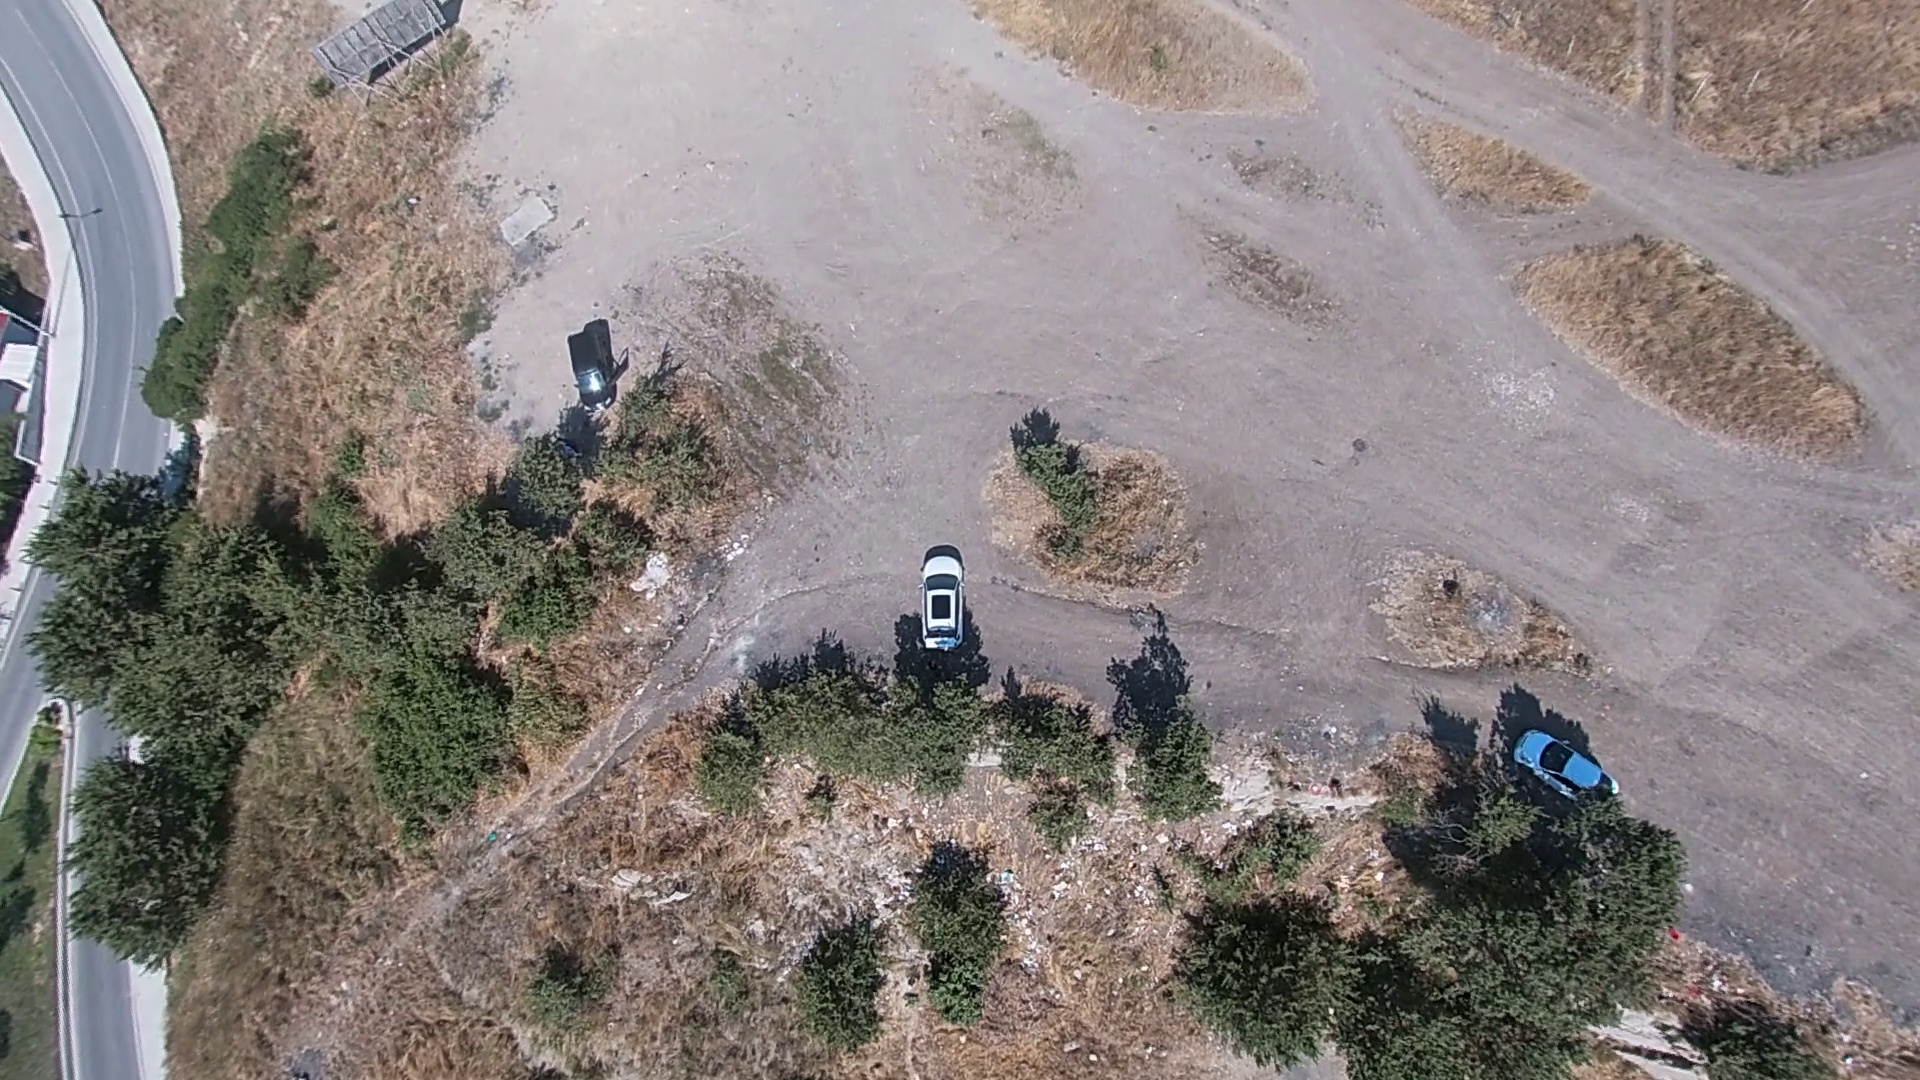araba: (1516, 733, 1611, 803), (914, 555, 967, 647), (564, 320, 611, 405)
